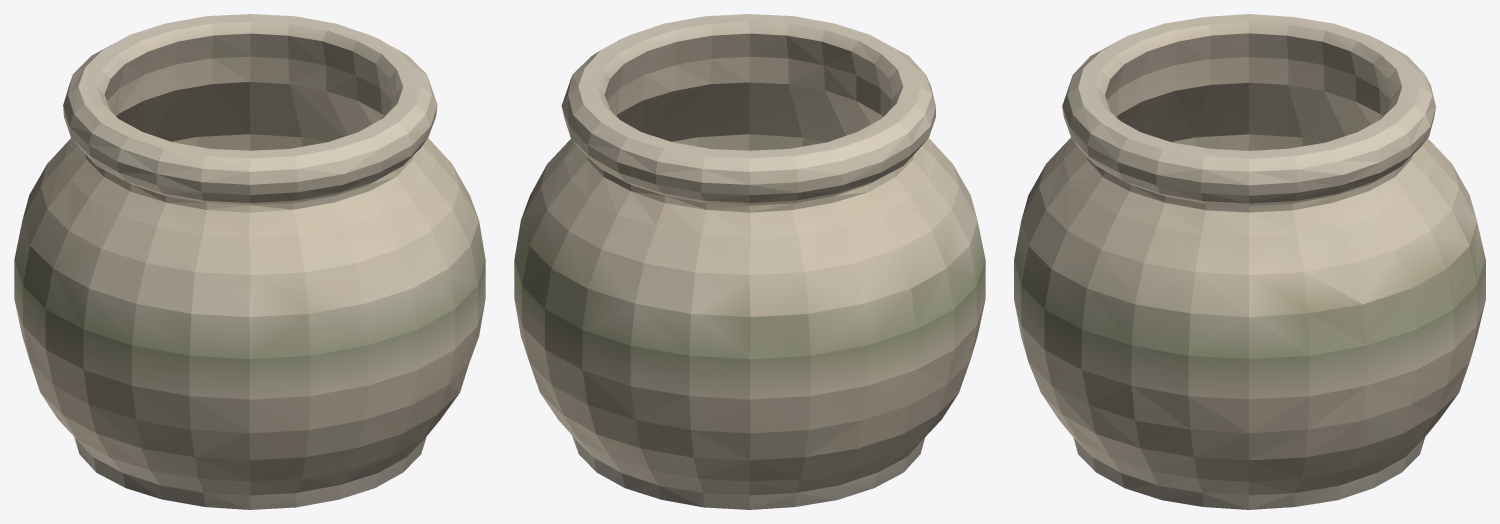
Rendered from jar_band.glb.
3 views of the same model, side by side, from view 1: azimuth 30°, elevation 25°; view 2: azimuth 150°, elevation 25°; view 3: azimuth 270°, elevation 25° (orthographic).
Parts seen in each view (by area): view 1: geometry_0; view 2: geometry_0; view 3: geometry_0.
Boxes of the visible parts, x1,y1,x2,y2 form: geometry_0: [14, 14, 485, 509]; geometry_0: [514, 14, 985, 509]; geometry_0: [1014, 14, 1485, 509].
Size of the model in its own units: 0.1294 by 0.1055 by 0.1294.
